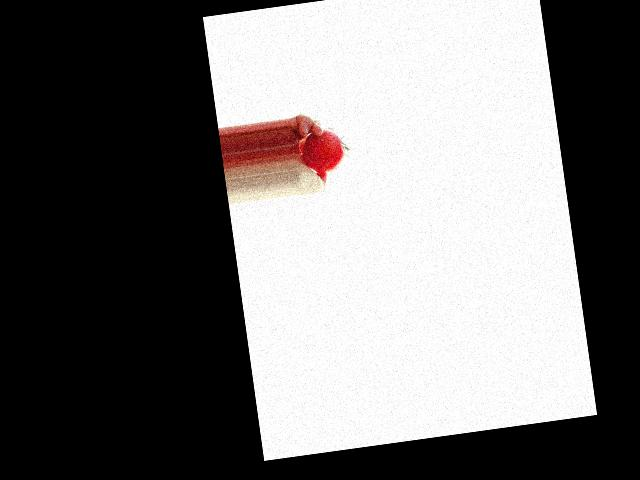tomato: (299, 125, 347, 175)
